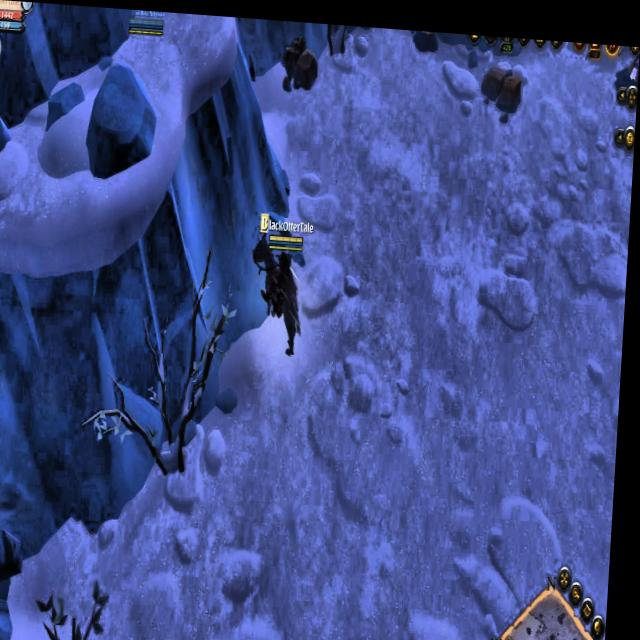copperore: (615, 39, 640, 90)
limestone: (478, 50, 526, 109), (278, 29, 323, 88)
